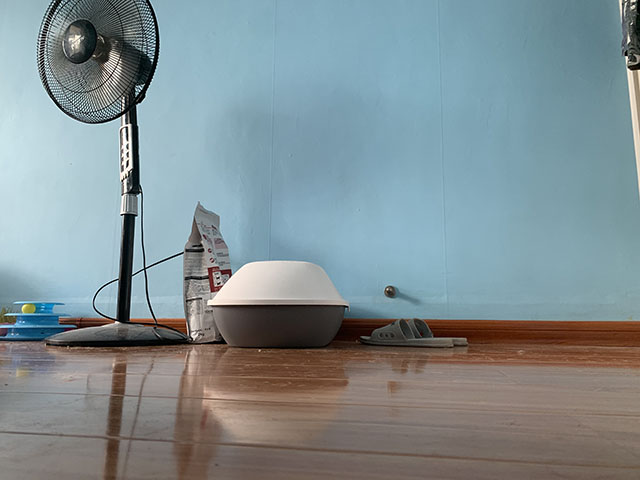slippers: (358, 317, 470, 349)
wire: (91, 183, 193, 345)
